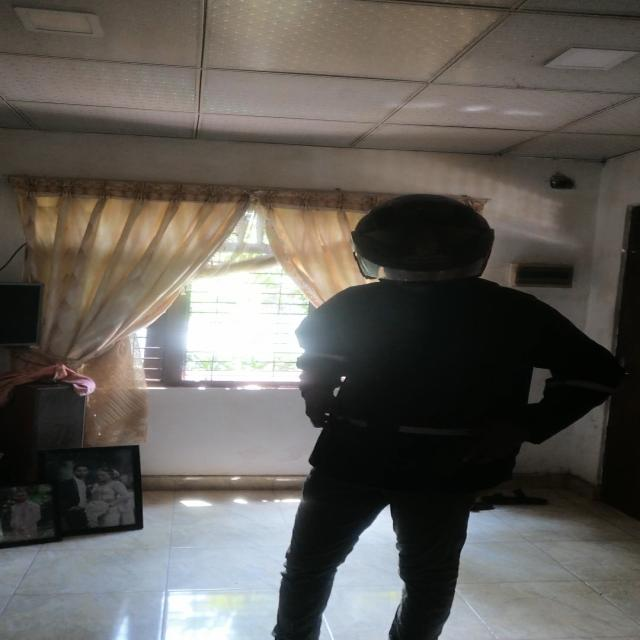Helmet_Wearer: (358, 194, 498, 303)
Jacket_Wearer: (284, 269, 616, 518)
Person: (270, 194, 619, 640)
